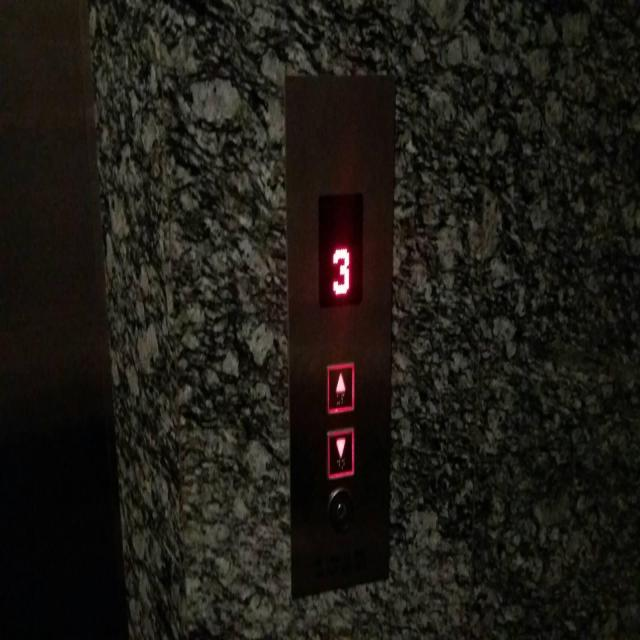down: (325, 423, 355, 479)
led: (314, 187, 364, 318)
up: (324, 359, 355, 416)
